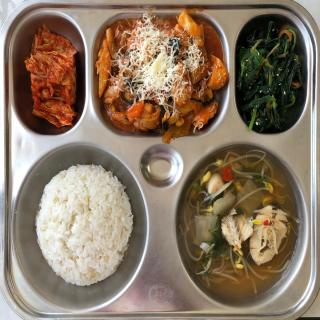Nasi: (38, 165, 134, 291)
